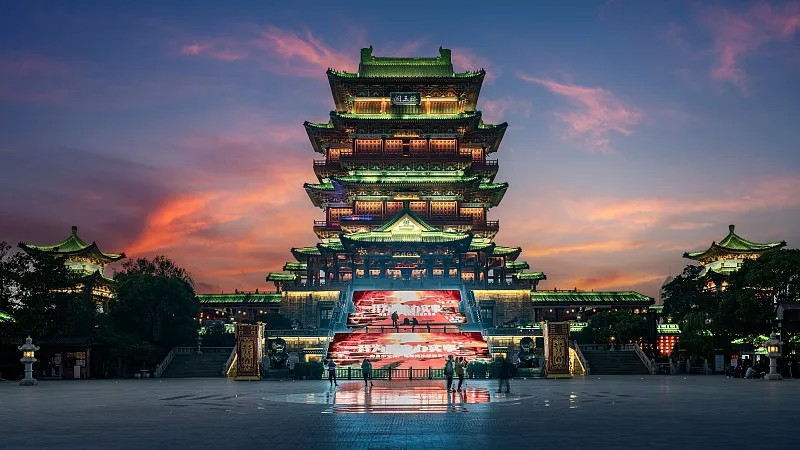Teng: (266, 46, 548, 291)
